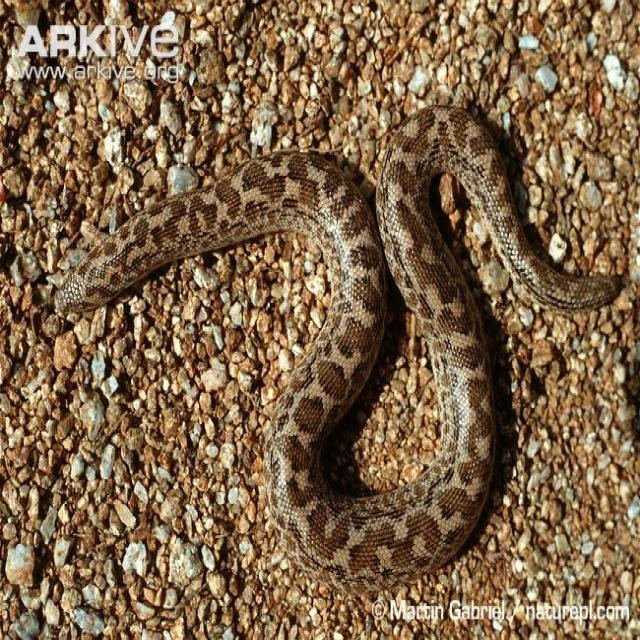Snake: (52, 96, 628, 584)
